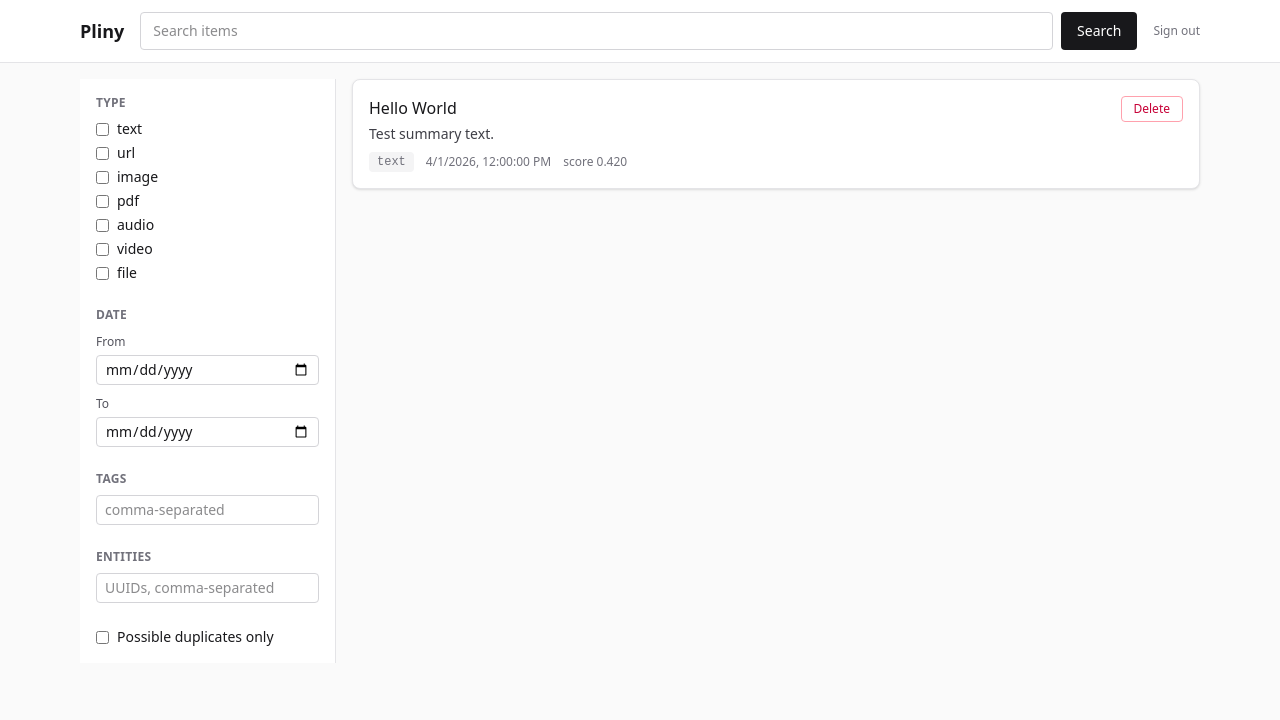
Scenario: App smoke › deletes an item when confirmed
Check: the heading "Hello World" is shown, box left=369, top=97, right=457, bottom=119
Step 1. Click the button "Delete" → [1152, 109], box left=1120, top=96, right=1183, bottom=122
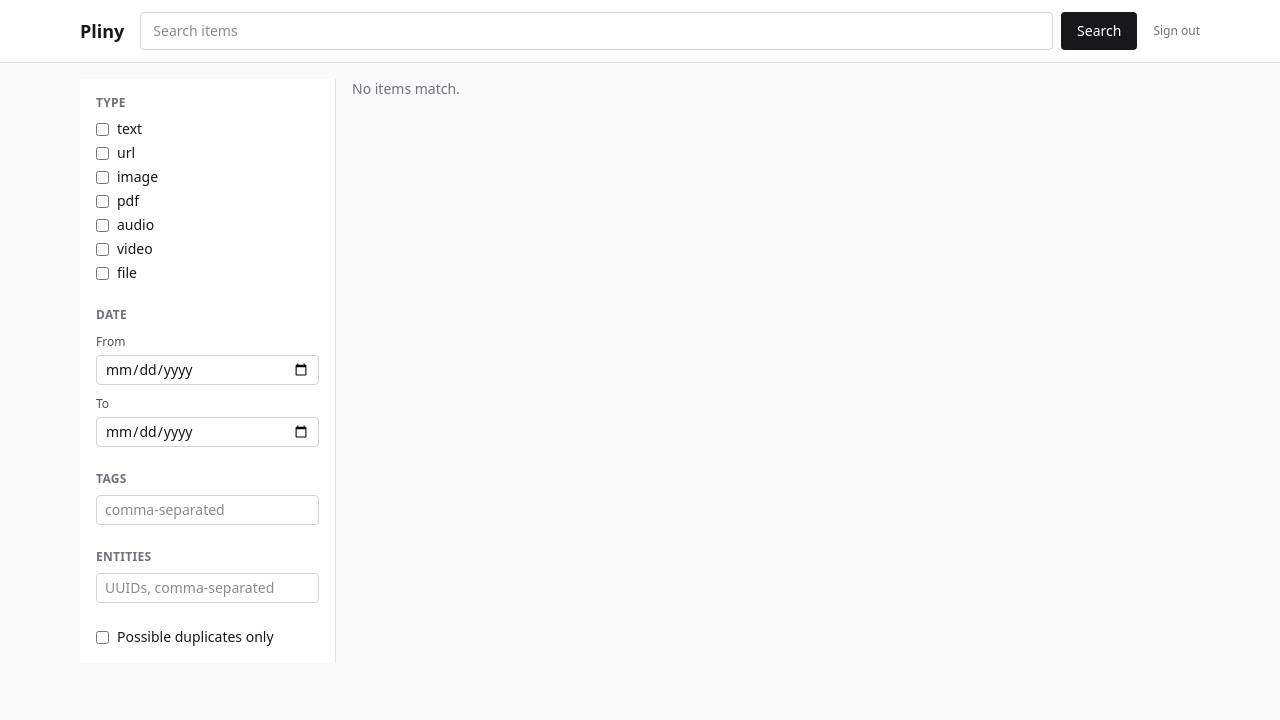
Check: the heading "Hello World" is gone
